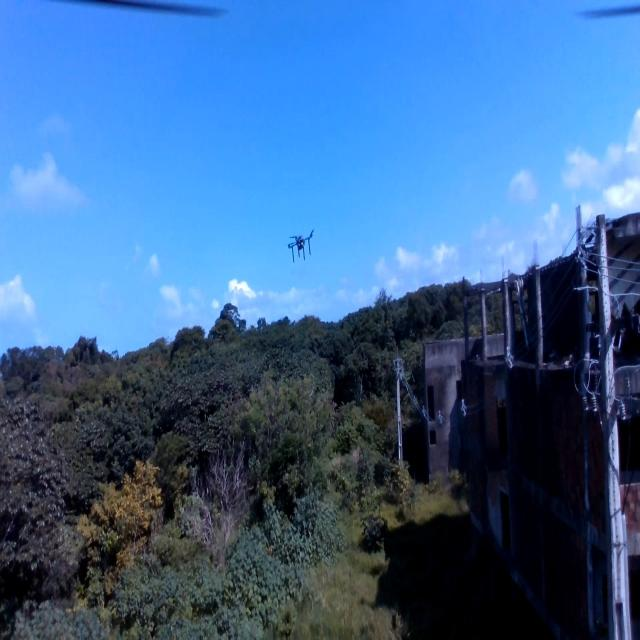-uav-: (279, 220, 324, 278)
